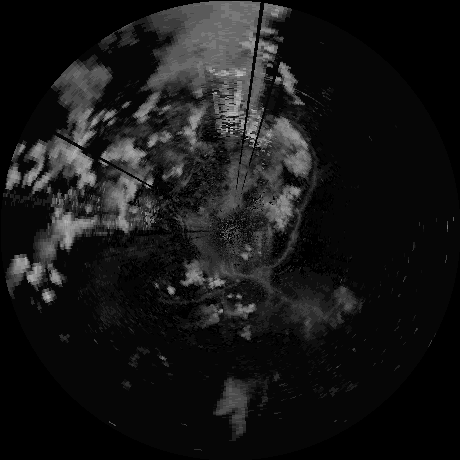frontgust: (254, 216, 302, 274), (156, 281, 239, 307), (299, 156, 318, 209)
